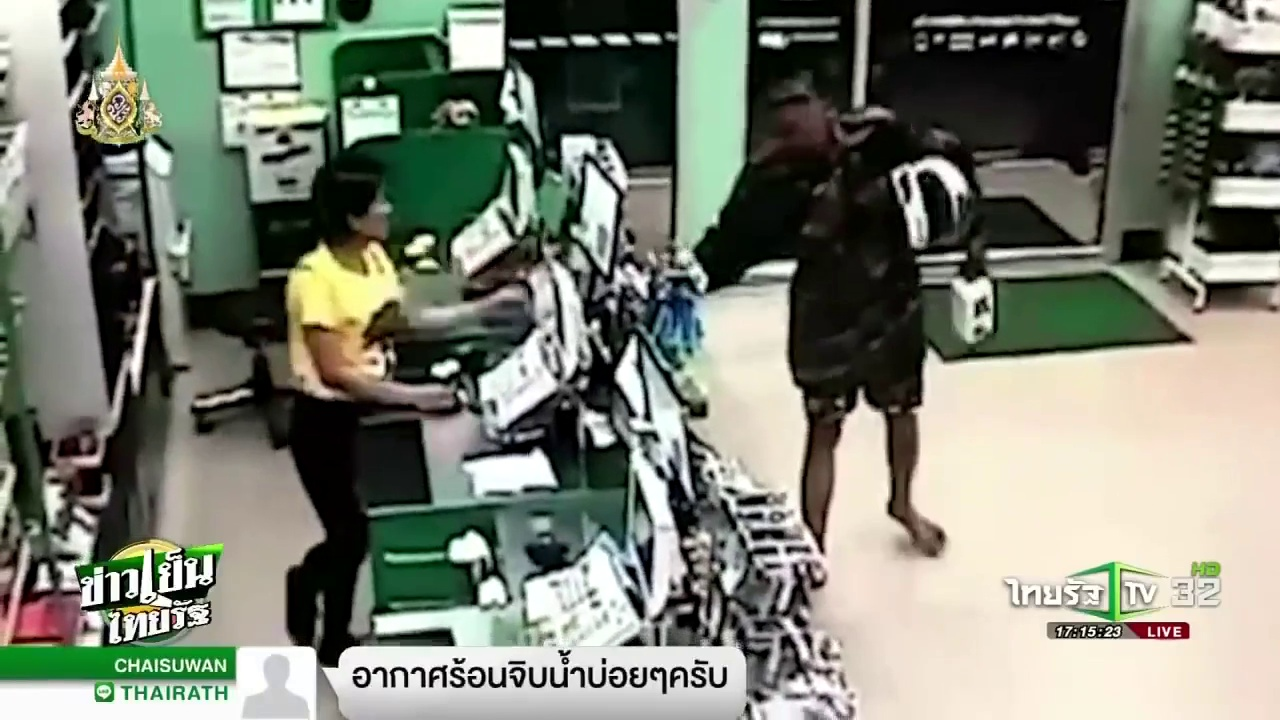helmet: (883, 153, 976, 251)
